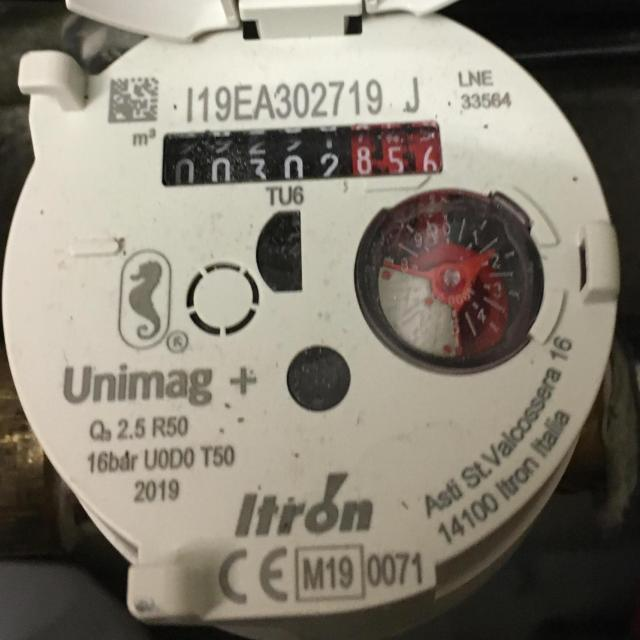gaz_meter: (5, 7, 619, 597)
indication: (161, 121, 443, 186)
